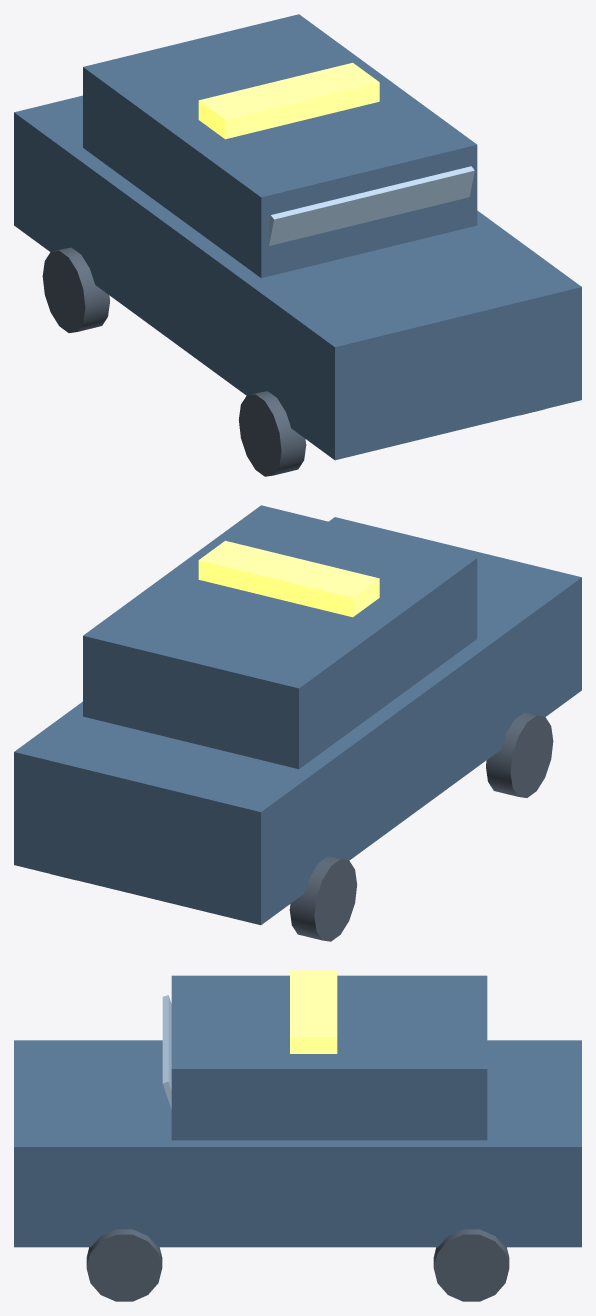
The model's file is suv_response.glb.
3 renders of one model, top to bottom at view 1: azimuth 30°, elevation 25°; view 2: azimuth 150°, elevation 25°; view 3: azimuth 270°, elevation 25°, orthographic. The views are drawn at different scales.
Bounding box in the file's own units: 0.88 × 0.837 × 1.8.
